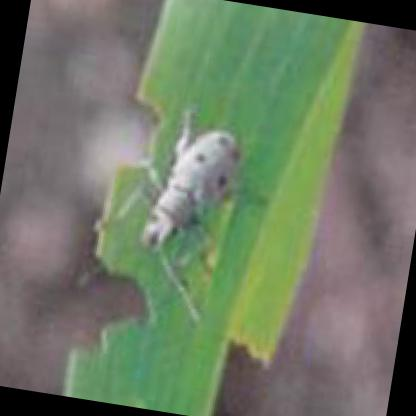ash weevil: (141, 113, 240, 256)
